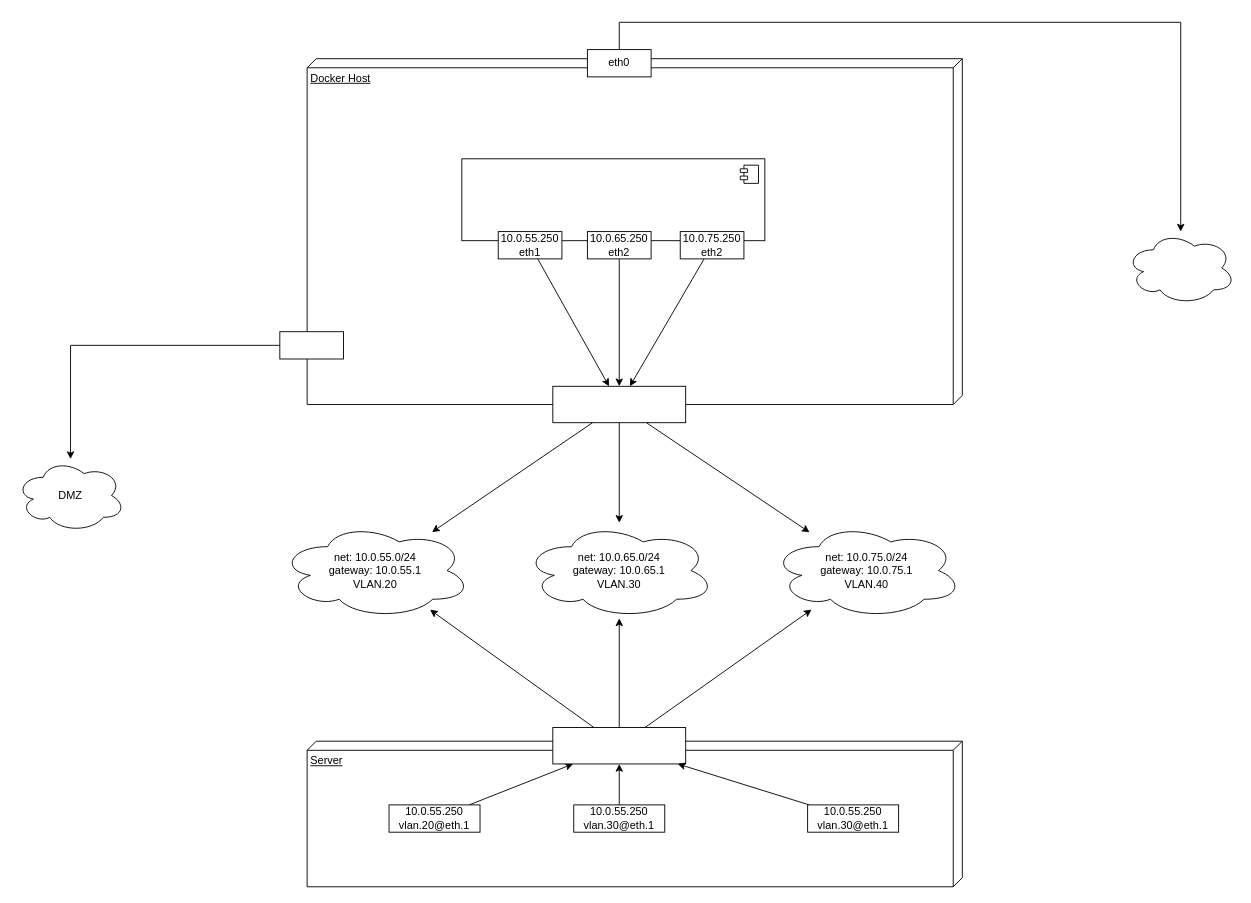
Image size: 1251x903. Some labels were removed from this diagram. Each missing label, with the centre of its shape:
"eth1" belongs at point (311, 345).
"eth1. 802.11Q trunk" belongs at point (619, 745).
"eth2. 802.11Q trunk" belongs at point (619, 404).
"NAT" belongs at point (1180, 267).
"«Container» dnsmasq" belongs at point (613, 199).
